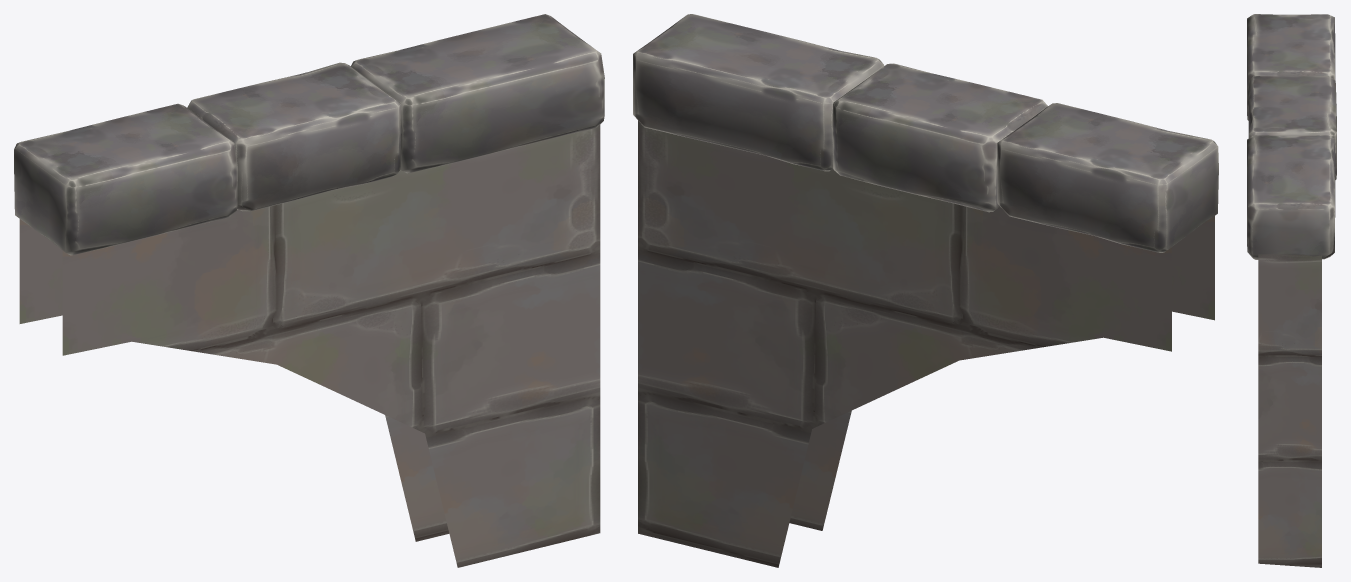
File: Wall_SingleArch.fbx
The picture shows the model from 3 angles, left to right: view 1: azimuth 30°, elevation 25°; view 2: azimuth 150°, elevation 25°; view 3: azimuth 270°, elevation 25°; orthographic projection. The views are drawn at different scales.
Visible parts, largest first — view 1: Wall_SingleArch; view 2: Wall_SingleArch; view 3: Wall_SingleArch.
Boxes of the visible parts, box(x1,y1,x2,y2) form: Wall_SingleArch: box(14, 14, 604, 567); Wall_SingleArch: box(633, 14, 1218, 567); Wall_SingleArch: box(1247, 14, 1336, 567).
Size of the model in its own units: 251 by 219 by 49.19.
